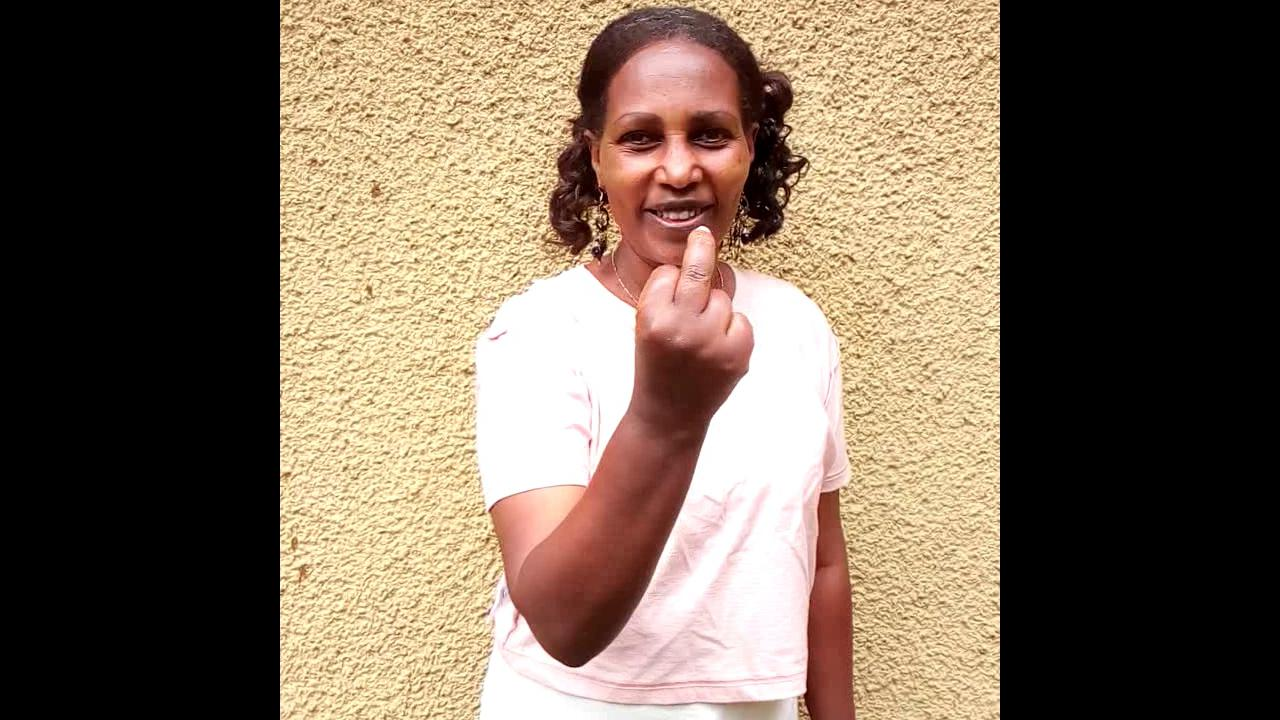CHE: (608, 228, 762, 511)
